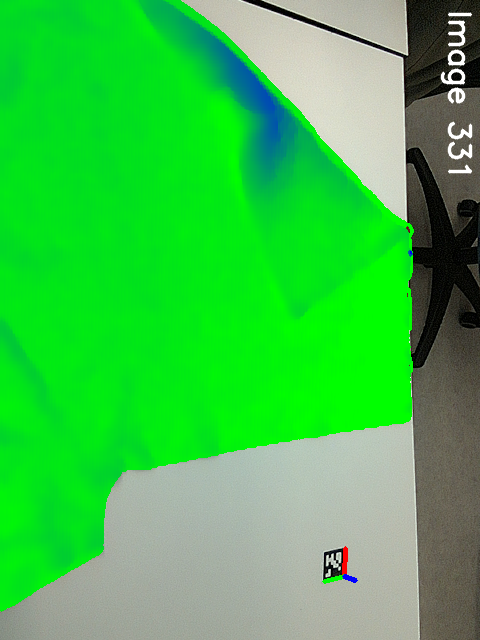V: (265, 274, 329, 329)
